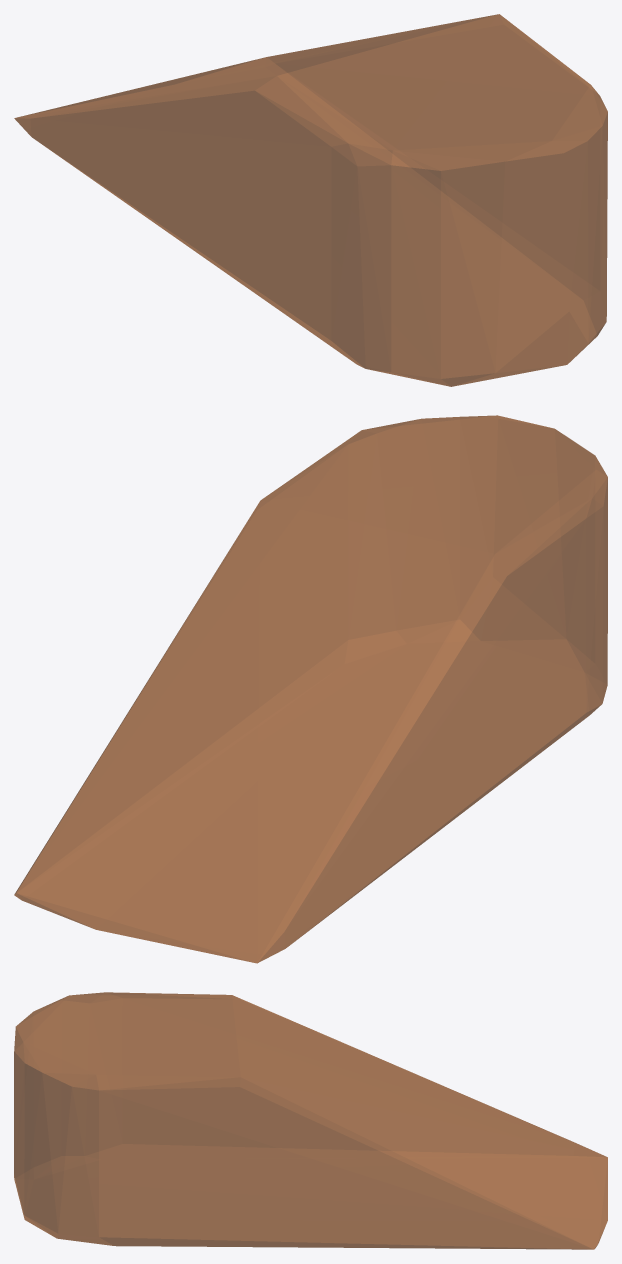
3 views of the same model, one above another, from view 1: azimuth 30°, elevation 25°; view 2: azimuth 150°, elevation 25°; view 3: azimuth 270°, elevation 25° (orthographic). The views are drawn at different scales.
Visible parts, largest first — view 1: Shape_IndexedFaceSet.005_Shape_IndexedFaceSet.16584; view 2: Shape_IndexedFaceSet.005_Shape_IndexedFaceSet.16584; view 3: Shape_IndexedFaceSet.005_Shape_IndexedFaceSet.16584.
Part boxes in pixels (bbox=[...]): Shape_IndexedFaceSet.005_Shape_IndexedFaceSet.16584: bbox=[14, 14, 607, 386]; Shape_IndexedFaceSet.005_Shape_IndexedFaceSet.16584: bbox=[14, 415, 607, 963]; Shape_IndexedFaceSet.005_Shape_IndexedFaceSet.16584: bbox=[14, 992, 607, 1249].
Bounding box in the file's own units: 0.1897 × 0.1628 × 0.5045.
